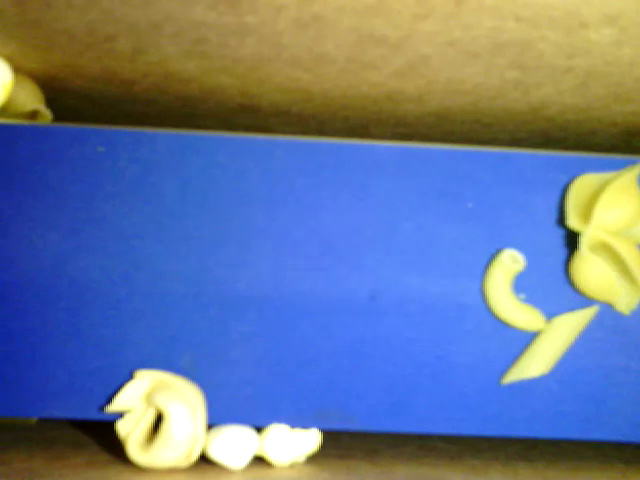elbow: (480, 249, 551, 335)
penne: (502, 303, 603, 386)
shell: (564, 227, 637, 318), (561, 162, 639, 237), (2, 67, 53, 127)
tortellini: (96, 364, 208, 473)
